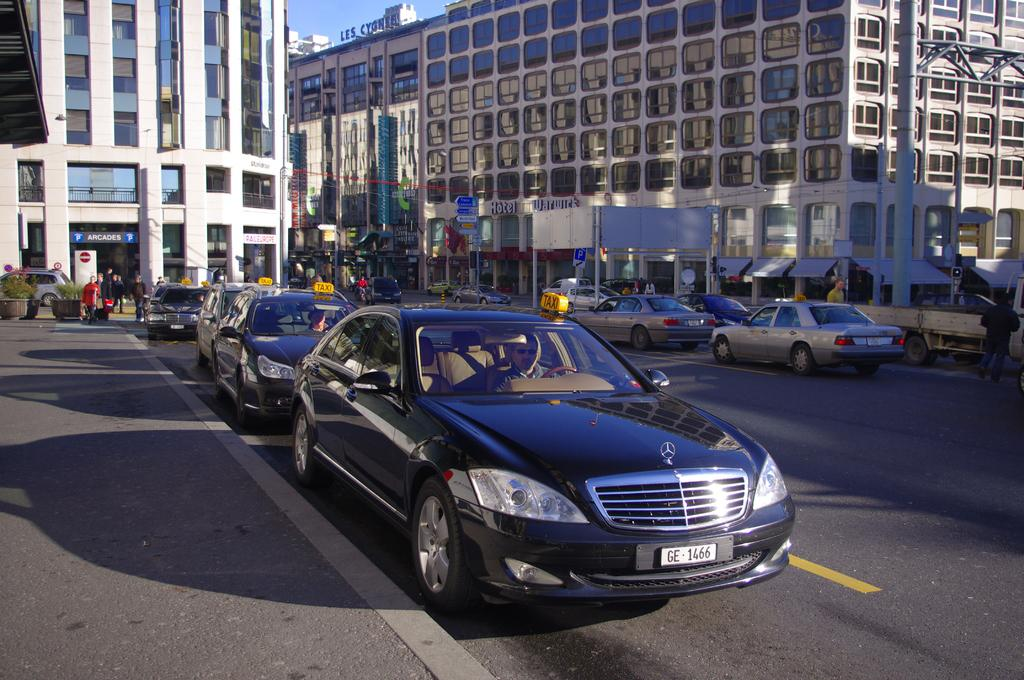taxi: (147, 277, 798, 609), (712, 294, 903, 376), (561, 288, 720, 353)
